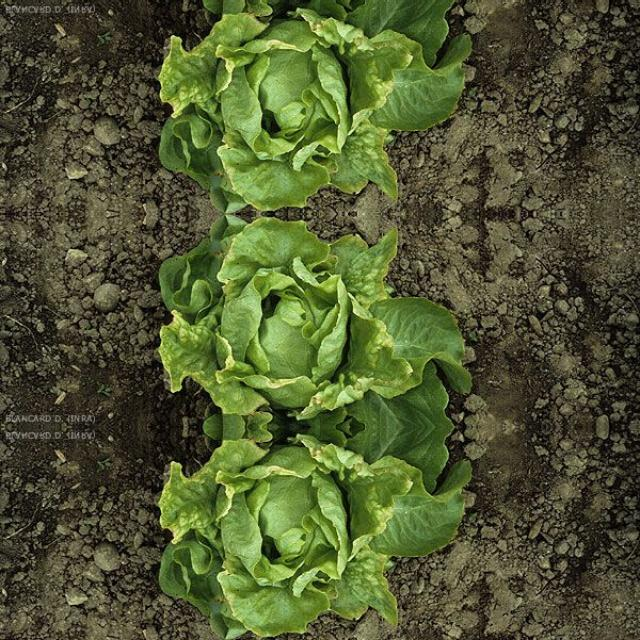lettuce mosaic virus: (190, 245, 428, 413), (190, 13, 428, 181), (190, 440, 428, 608)
